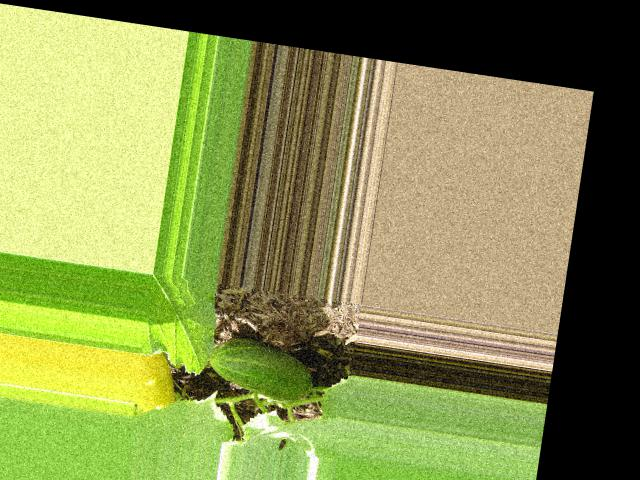cucumber: (205, 332, 318, 405)
